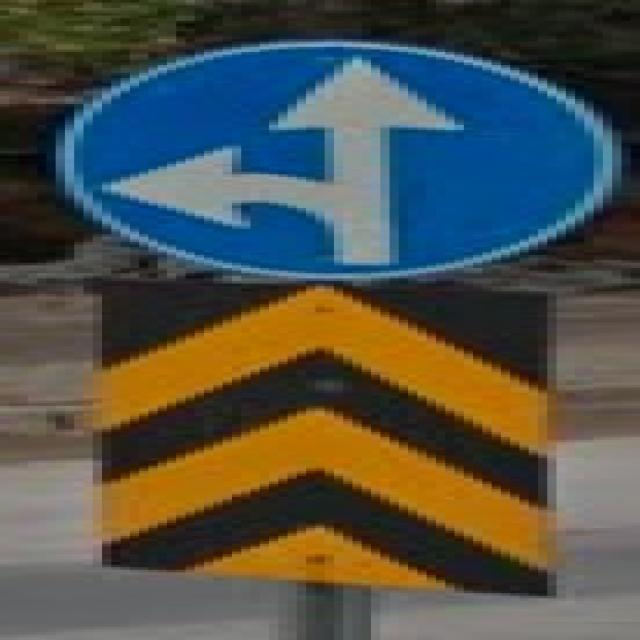Straight or Left: (57, 43, 623, 282)
